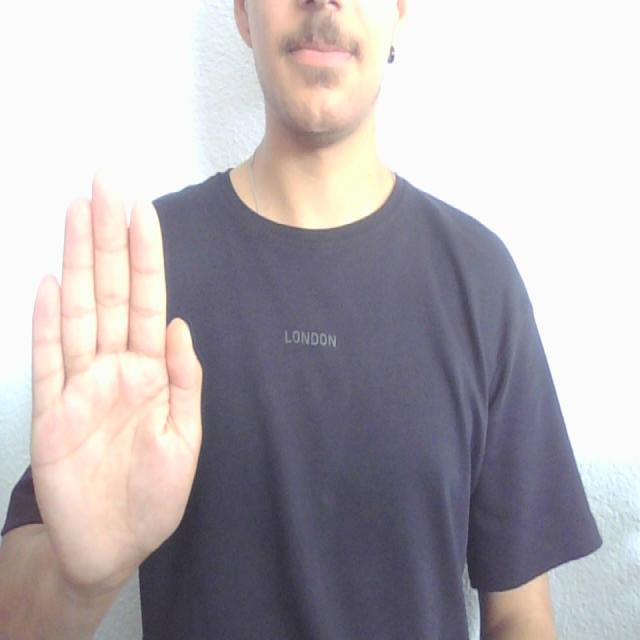Dur: (13, 160, 214, 579)
